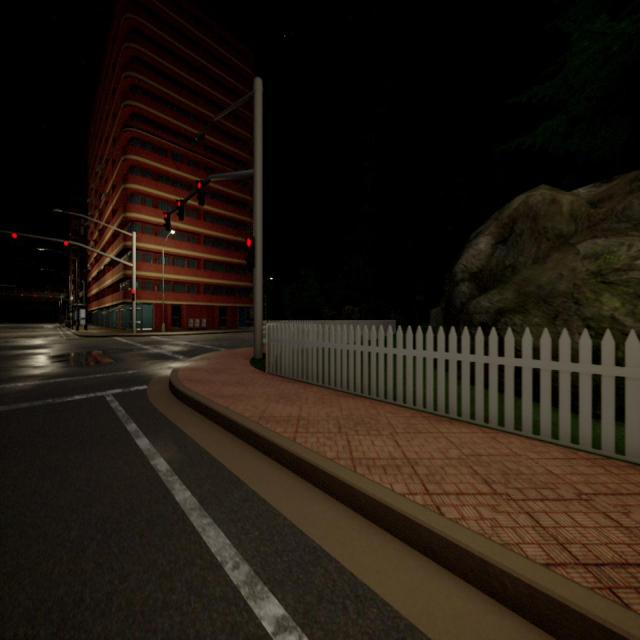traffic_light: (244, 235, 255, 268), (195, 180, 205, 207), (175, 199, 184, 220), (163, 212, 171, 230), (12, 232, 17, 248), (64, 240, 68, 254), (131, 289, 135, 301), (34, 294, 36, 297), (50, 295, 52, 298), (21, 294, 23, 296)
